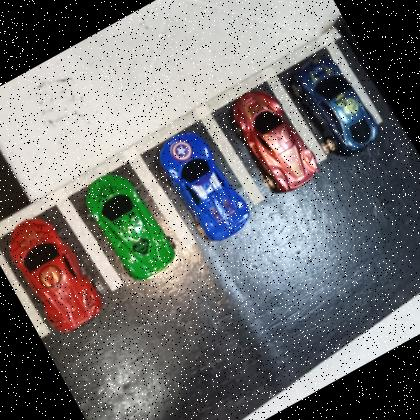Car: (0, 203, 115, 343), (71, 159, 187, 295), (145, 118, 259, 254), (217, 74, 328, 206), (277, 40, 389, 168)
